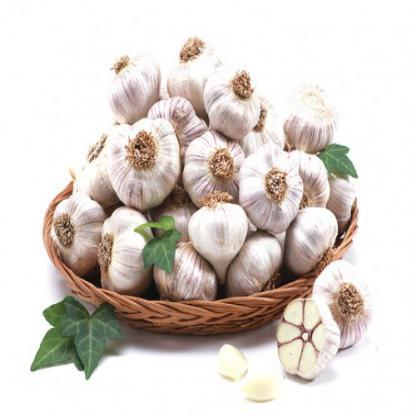garlic: (107, 122, 180, 207), (308, 273, 380, 350), (97, 201, 155, 289), (238, 149, 304, 225), (265, 298, 332, 372), (178, 131, 244, 204), (160, 237, 224, 310), (46, 193, 102, 270), (188, 202, 248, 270), (204, 61, 257, 135), (282, 80, 338, 148), (230, 235, 284, 303), (287, 202, 340, 269), (110, 55, 160, 121), (162, 46, 217, 103), (207, 335, 251, 384), (240, 373, 286, 402)
